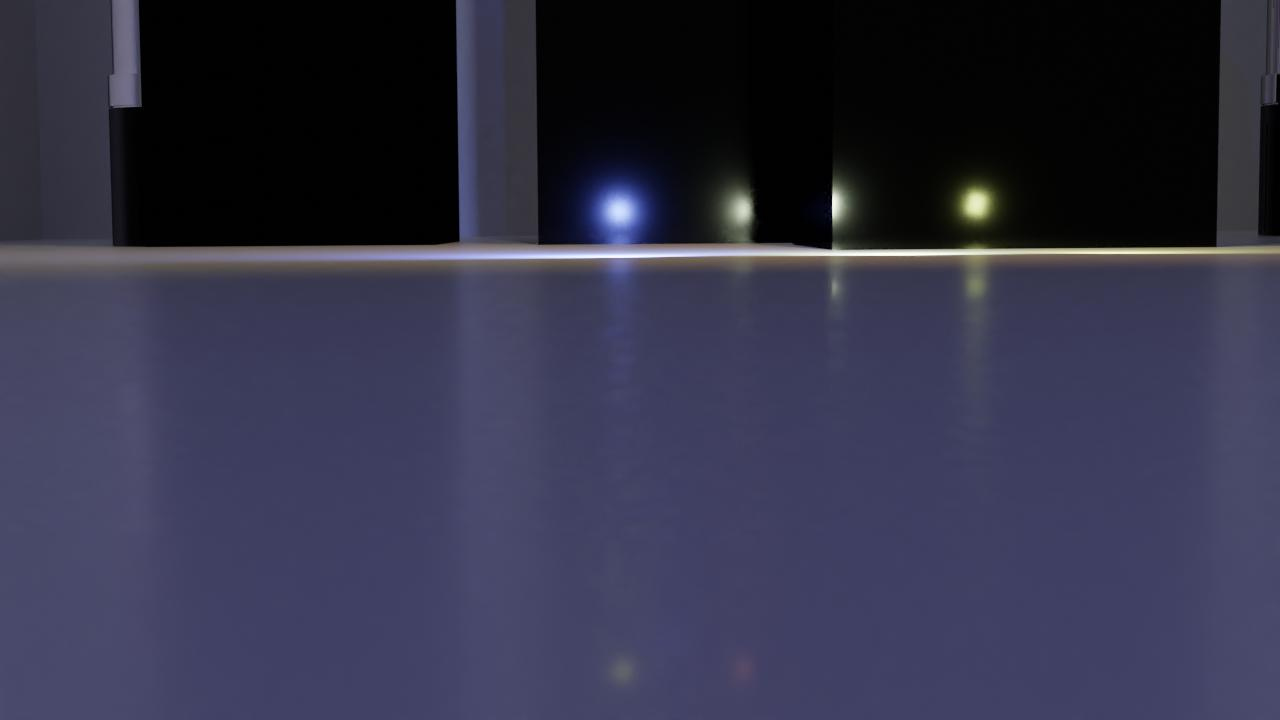CLASSIFIER_NAME: (1256, 0, 1280, 236)
